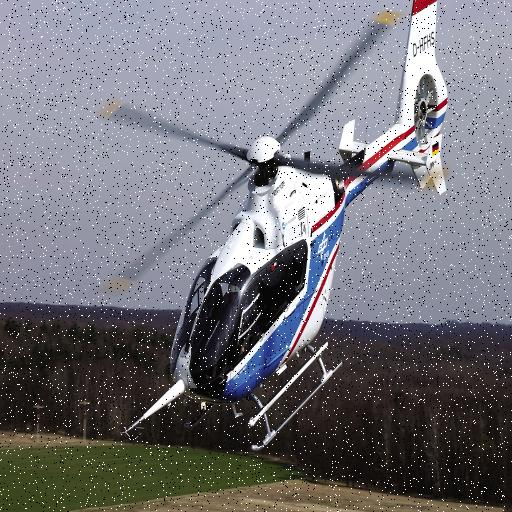helicopter: (99, 1, 451, 455)
